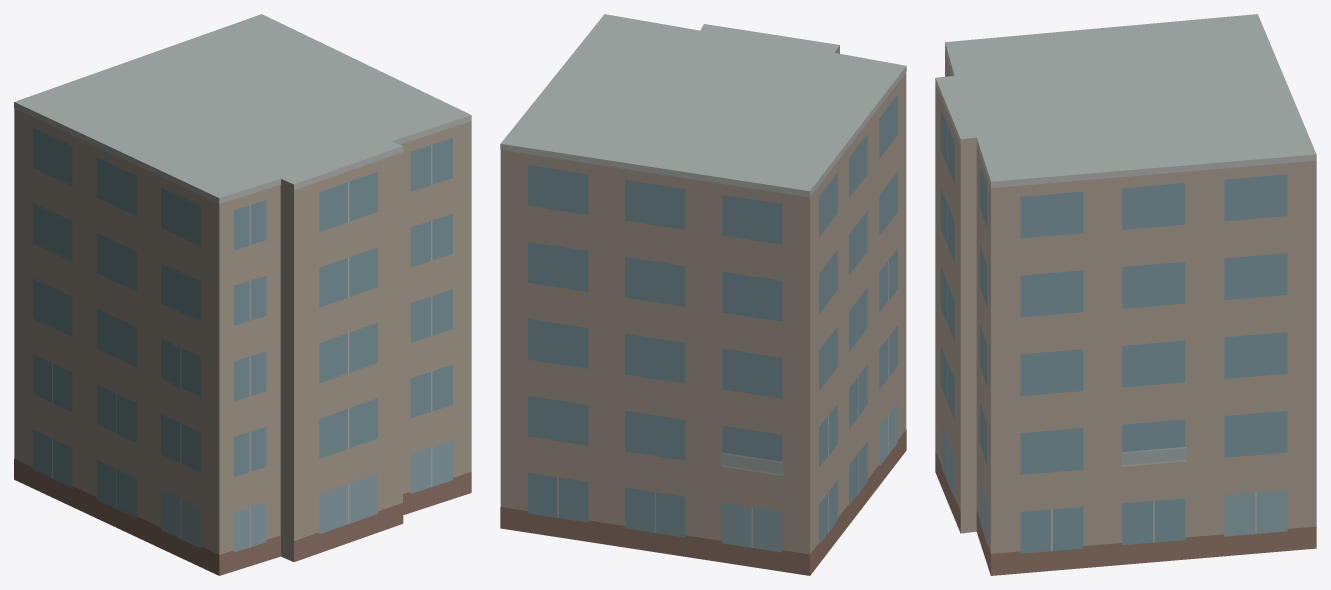
File: survey-upis-32574742.glb
3 renders of one model, left to right at view 1: azimuth 30°, elevation 25°; view 2: azimuth 150°, elevation 25°; view 3: azimuth 270°, elevation 25°, orthographic. The views are drawn at different scales.
Parts seen in each view (by area): view 1: survey-upis-32574742.tmp; view 2: survey-upis-32574742.tmp; view 3: survey-upis-32574742.tmp.
Boxes of the visible parts, x1,y1,x2,y2 form: survey-upis-32574742.tmp: [14, 14, 471, 575]; survey-upis-32574742.tmp: [500, 14, 906, 575]; survey-upis-32574742.tmp: [935, 14, 1316, 575].
Size of the model in its own units: 13.98 by 15.3 by 13.43.
